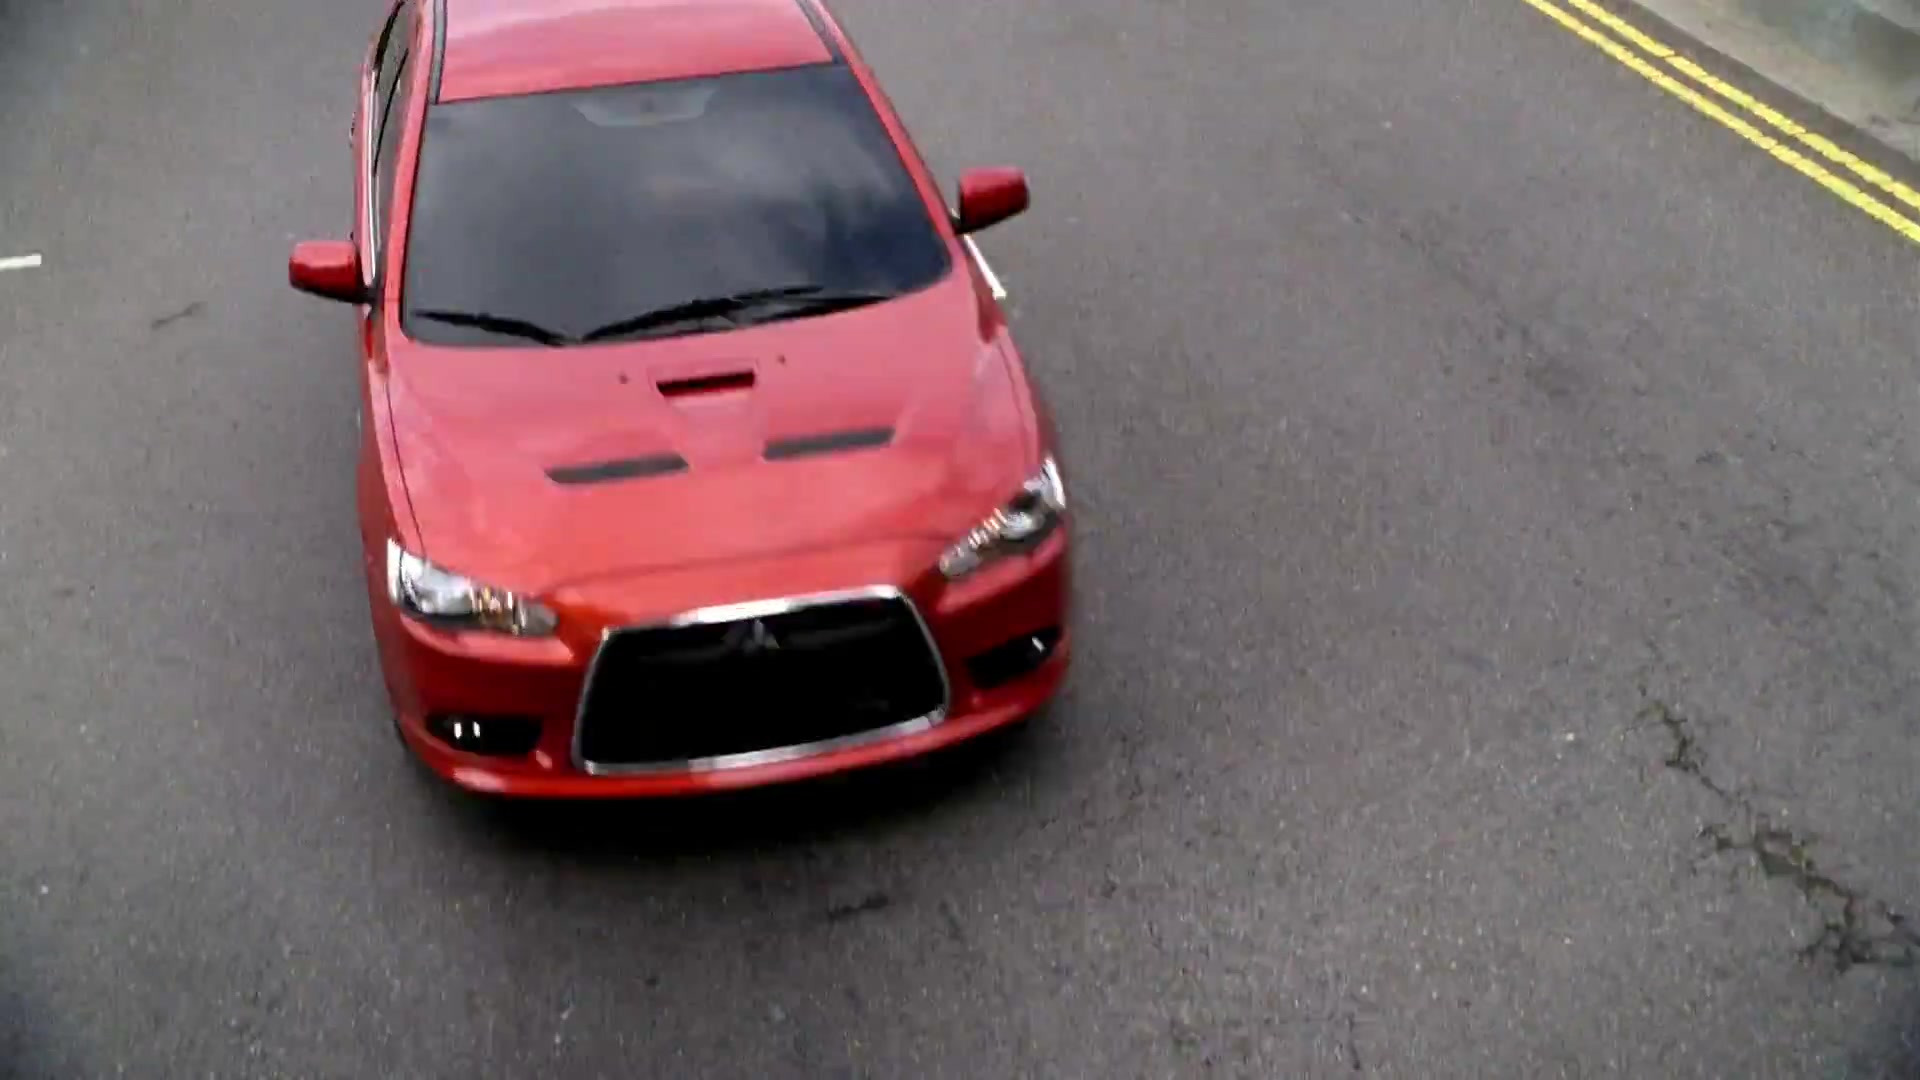car: (287, 7, 1077, 844)
